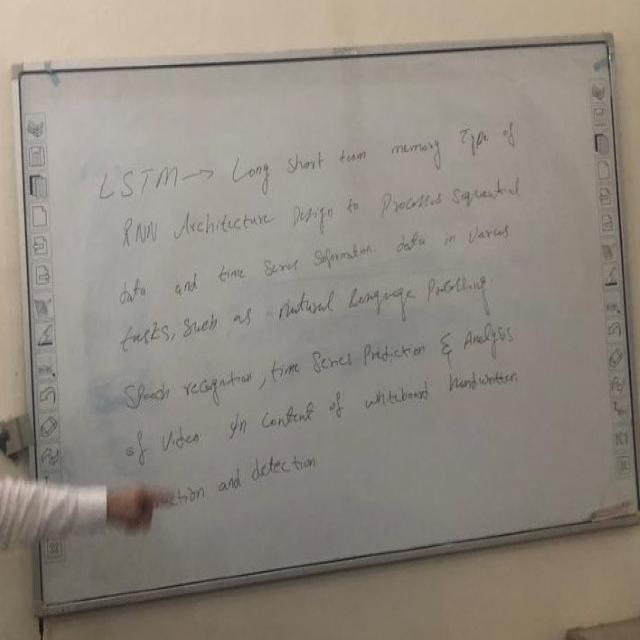White-board: (14, 44, 640, 610)
